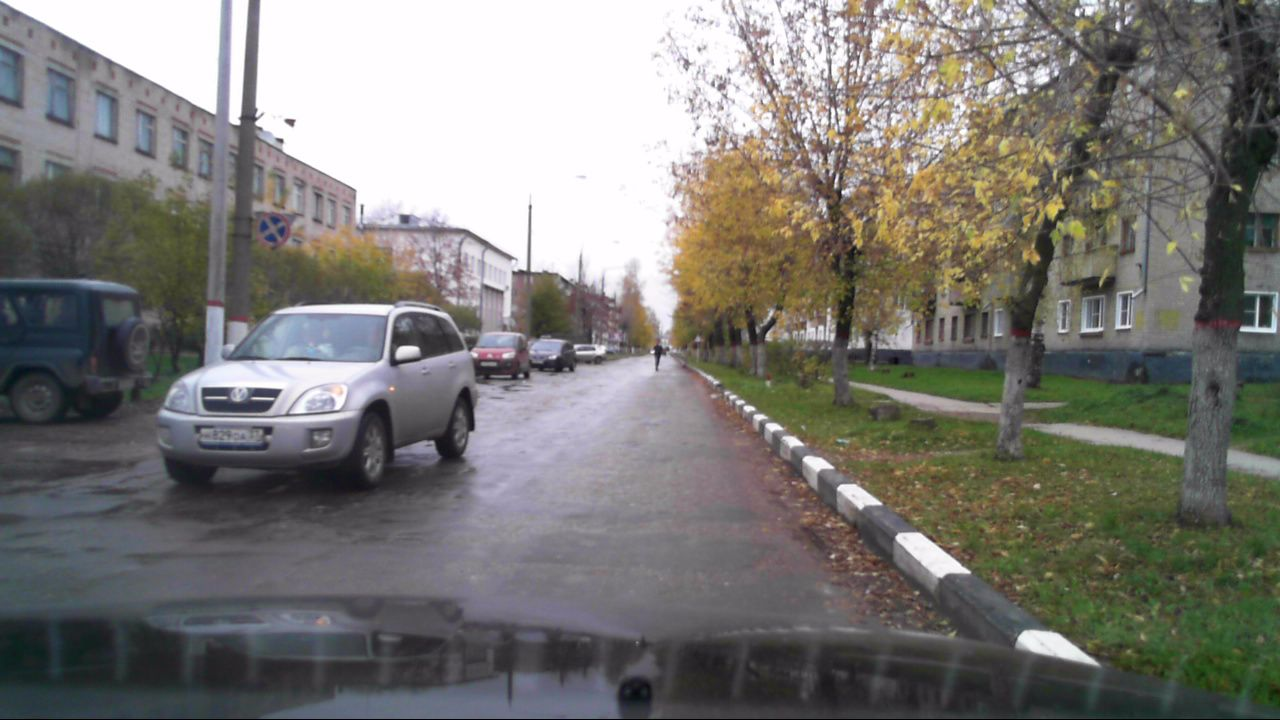No Parking: (254, 210, 290, 249)
